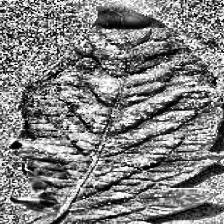spider mites: (17, 6, 223, 224)
